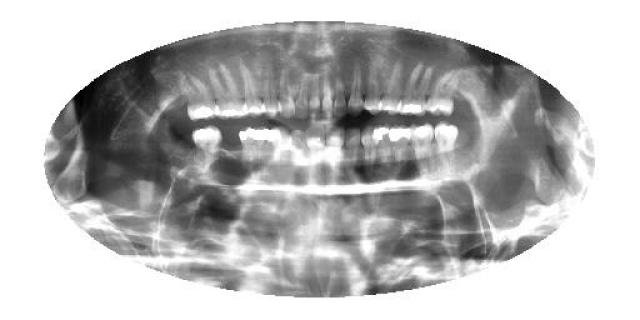Fillings: (206, 64, 246, 121), (396, 63, 432, 119), (181, 71, 215, 121), (410, 122, 435, 174), (238, 126, 270, 166), (192, 125, 222, 164), (435, 121, 457, 169), (389, 125, 410, 174), (374, 124, 390, 168)
